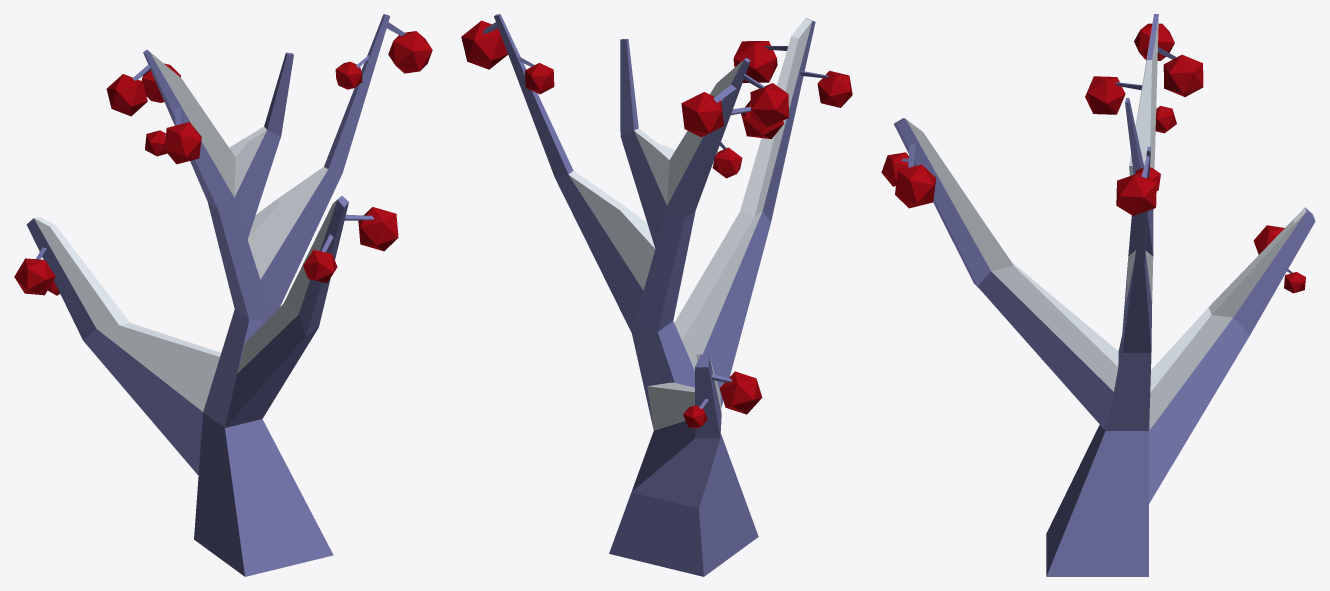
Rendered from BushWinter2_Alt3.fbx.
3 renders of one model, left to right at view 1: azimuth 30°, elevation 25°; view 2: azimuth 150°, elevation 25°; view 3: azimuth 270°, elevation 25°, orthographic. The views are drawn at different scales.
Visible parts, largest first — view 1: BushWinter2_Alt3; view 2: BushWinter2_Alt3; view 3: BushWinter2_Alt3.
Part boxes in pixels (<box>): BushWinter2_Alt3: <box>14,14,432,576</box>; BushWinter2_Alt3: <box>461,14,852,576</box>; BushWinter2_Alt3: <box>881,14,1315,576</box>.
Size of the model in its own units: 0.4174 by 0.5787 by 0.4566.
